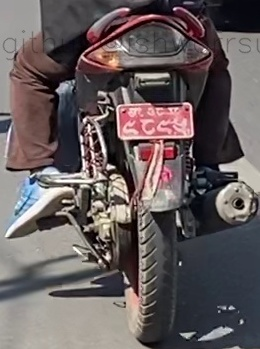license_plate: (116, 102, 193, 139)
